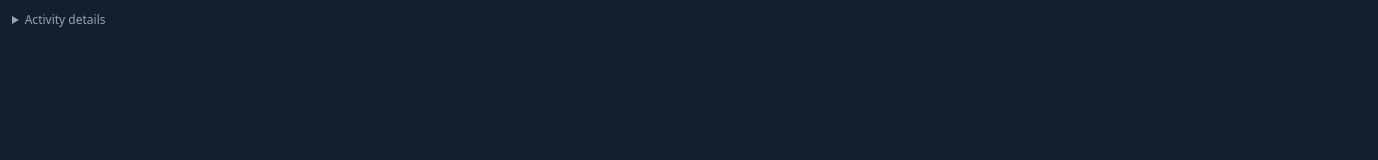
Test: shared Throne query and visible result states › keeps retained earlier records in collapsed details, separate from exact current counts
Click the heading "Activity details".
click(65, 20)  # box [25,11,106,28]
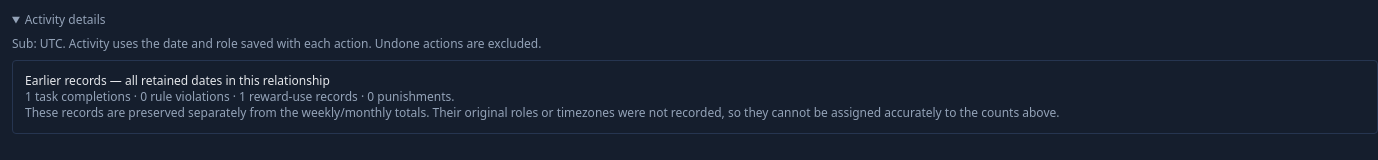
expect the text "Earlier records — all retained dates in this relationship" is shown: met, box [25,72,330,89]
expect the text "1 reward-use records" is shown: met, box [25,88,454,105]
expect the text "preserved separately" shows "cannot be assigned accurately": met, box [25,104,1060,121]
